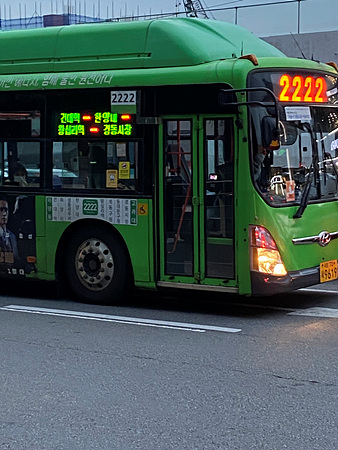entrance: (157, 109, 240, 295)
